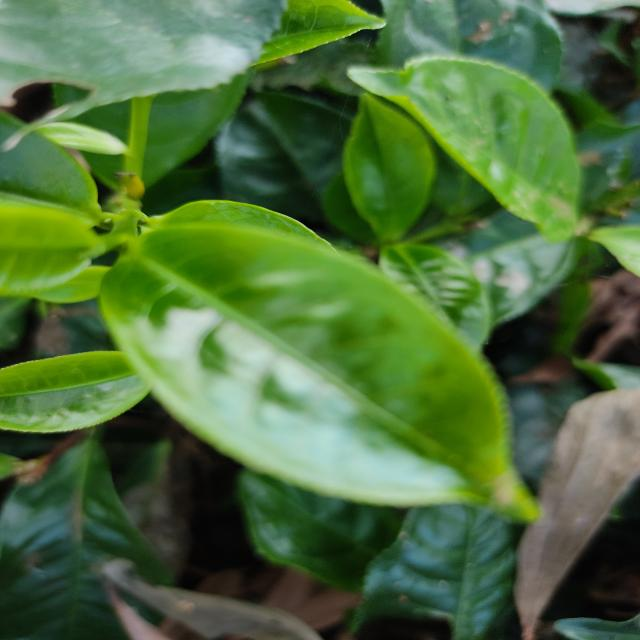Category B(2-4 days): (86, 189, 544, 586)
